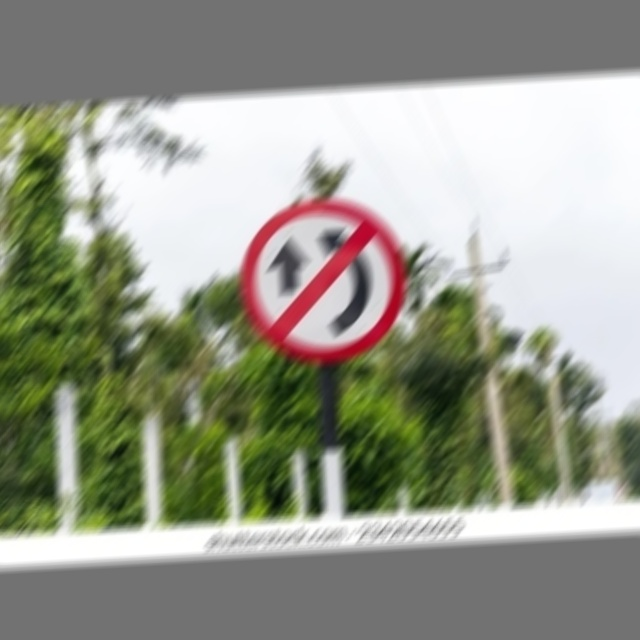Overtaking_Prohibited: (237, 200, 412, 370)
